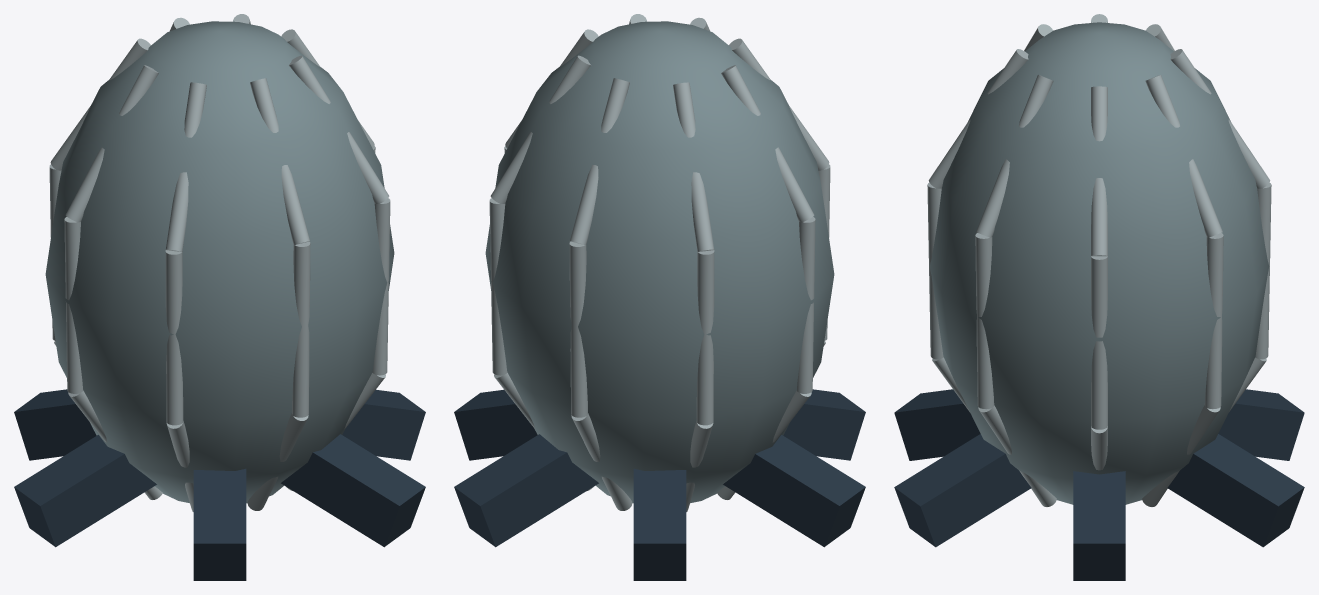
File: CMU3DHiveCMUHunterShipPlacedBaseItemEggItemSouthVariant02OffsetNeg7x11.glb
3 renders of one model, left to right at view 1: azimuth 30°, elevation 25°; view 2: azimuth 150°, elevation 25°; view 3: azimuth 270°, elevation 25°, orthographic.
Visible parts, largest first — view 1: closed ovoid shell, anchoring root (×5), raised shell ridge (×13); view 2: closed ovoid shell, anchoring root (×5), raised shell ridge (×13); view 3: closed ovoid shell, anchoring root (×5), raised shell ridge (×13).
Part boxes in pixels (left/top/right/bottom): closed ovoid shell: left=45, top=21, right=394, bottom=503; anchoring root (×5): left=14, top=389, right=425, bottom=580; raised shell ridge (×13): left=50, top=38, right=390, bottom=511; closed ovoid shell: left=485, top=21, right=834, bottom=503; anchoring root (×5): left=454, top=389, right=865, bottom=580; raised shell ridge (×13): left=489, top=38, right=829, bottom=511; closed ovoid shell: left=929, top=22, right=1269, bottom=504; anchoring root (×5): left=894, top=389, right=1304, bottom=580; raised shell ridge (×13): left=927, top=49, right=1271, bottom=506.
Size of the model in its own units: 0.4739 by 0.546 by 0.4384.
